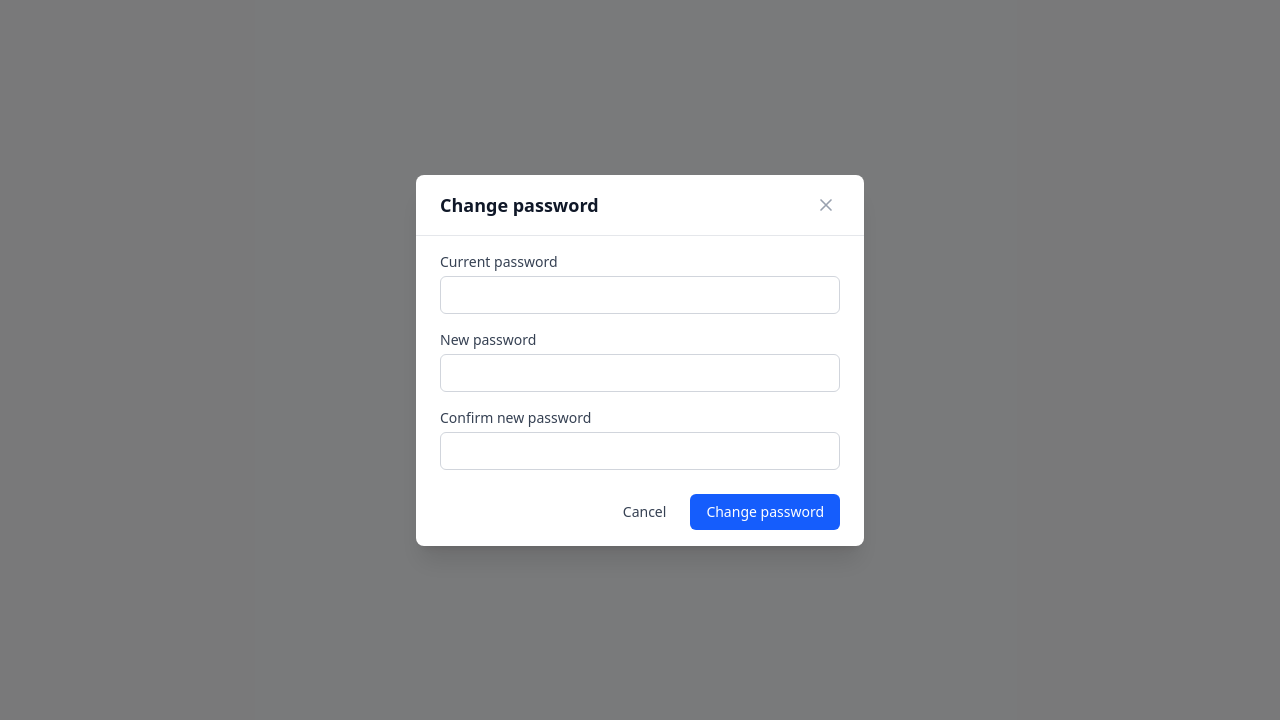
Test: ChangePasswordModal › shows the API error on wrong current password (401)
This screenshot has width=1280, height=720.
Type "wrong-password" into the password field labelled "Current password" at (640, 294), box [440,276,840,314]
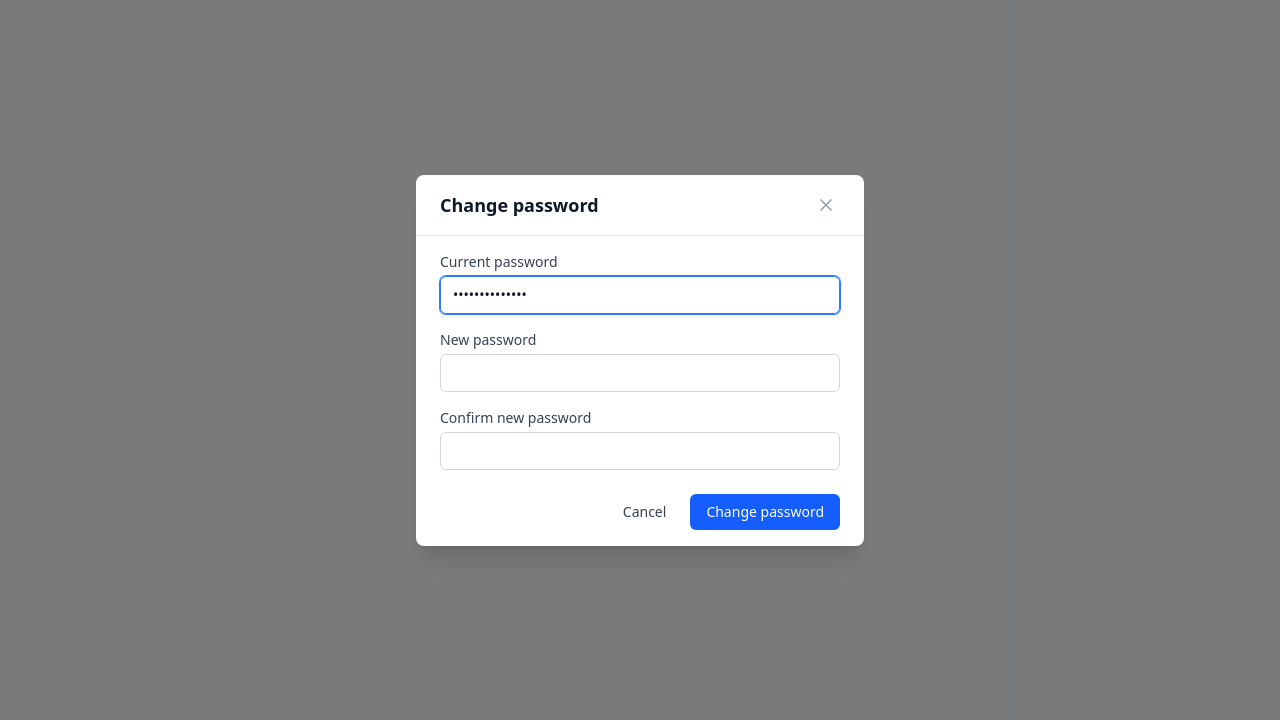
Type "new-password" into the password field labelled "New password" at (640, 372), box [440,354,840,392]
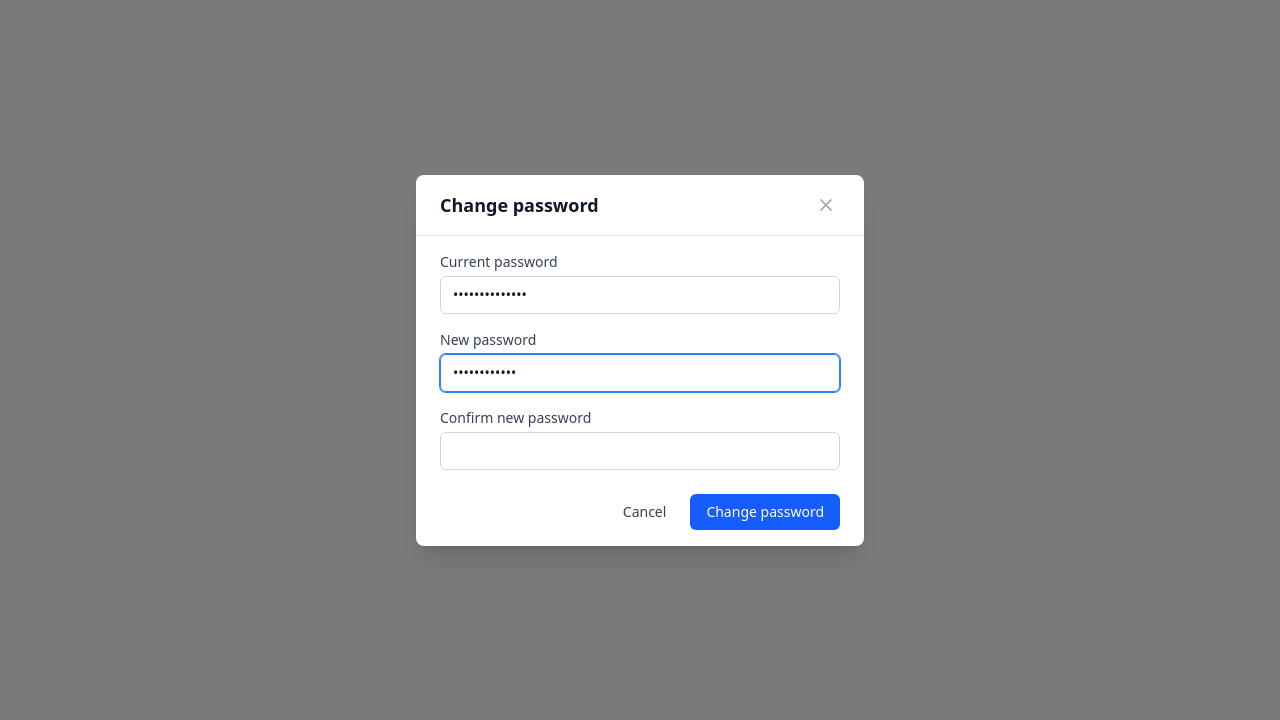
Type "new-password" into the password field labelled "Confirm new password" at (640, 450), box [440,432,840,470]
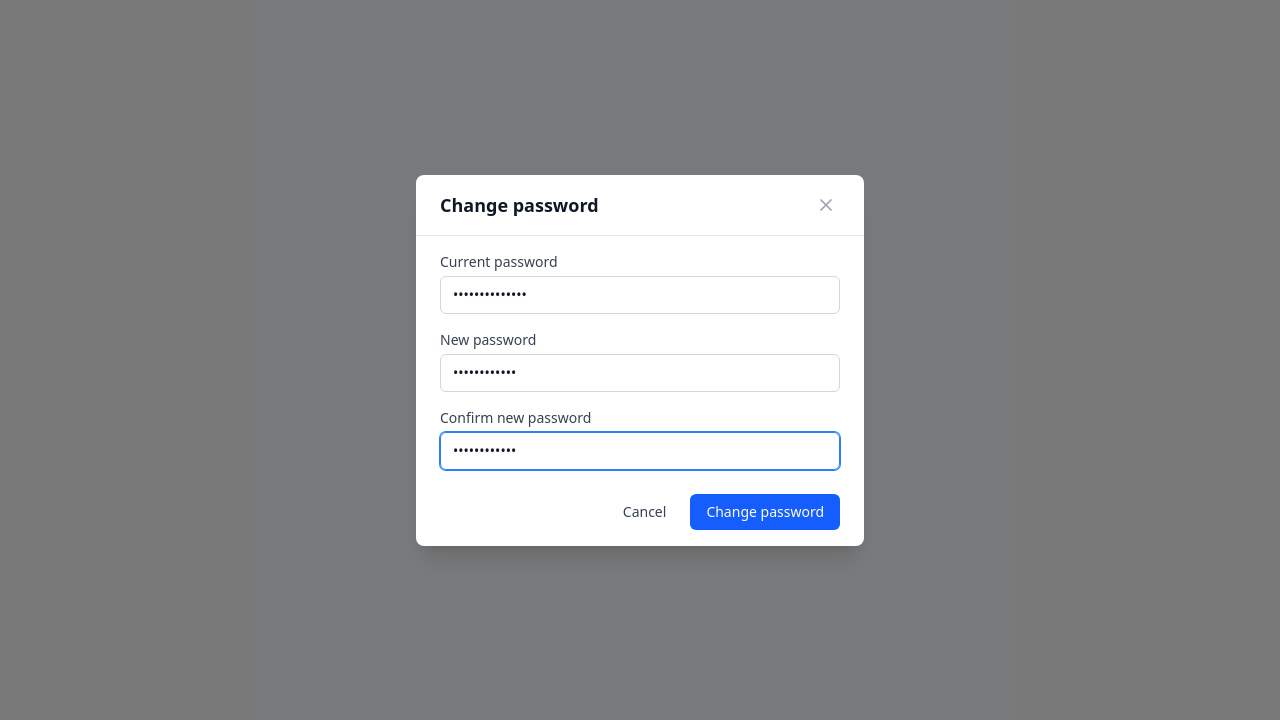
Click the button "Change password" at (765, 512), box [690,494,840,530]
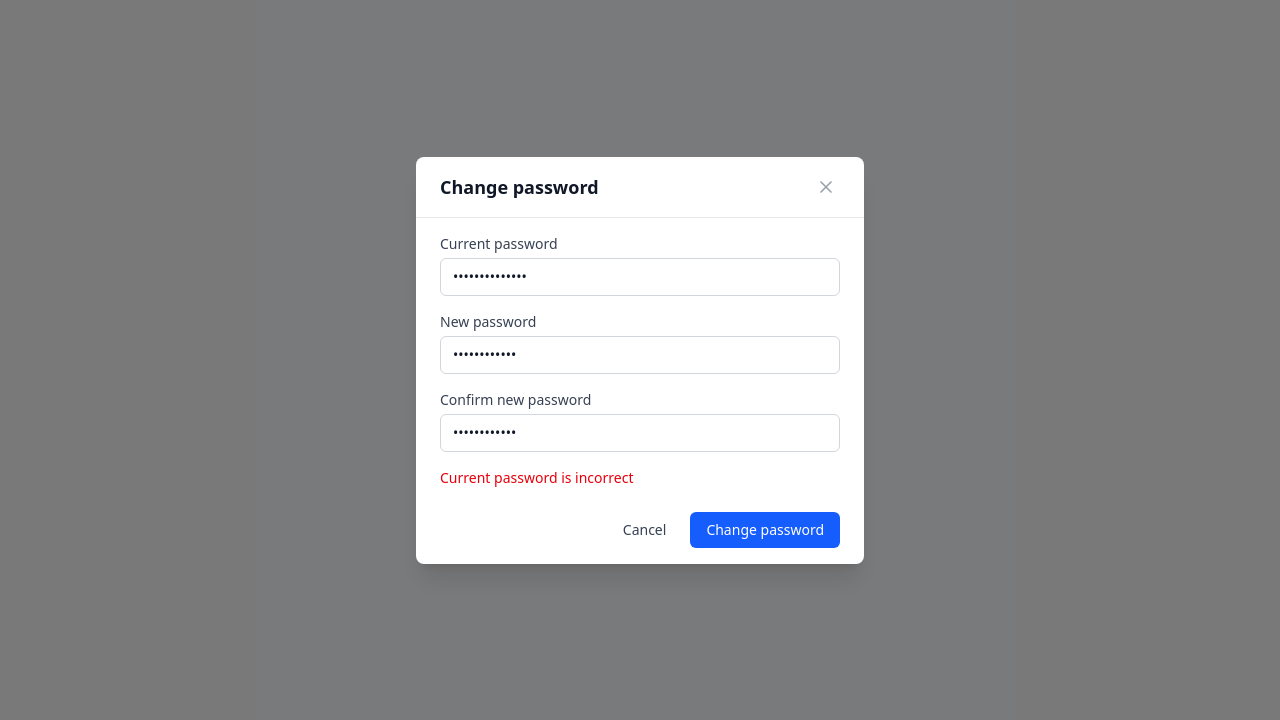
expect the button "Change password" is enabled: met, box [690,512,840,548]
expect the text "Current password is incorrect" is shown: met, box [440,468,634,486]
